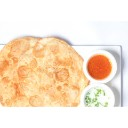poori: (1, 37, 81, 107)
